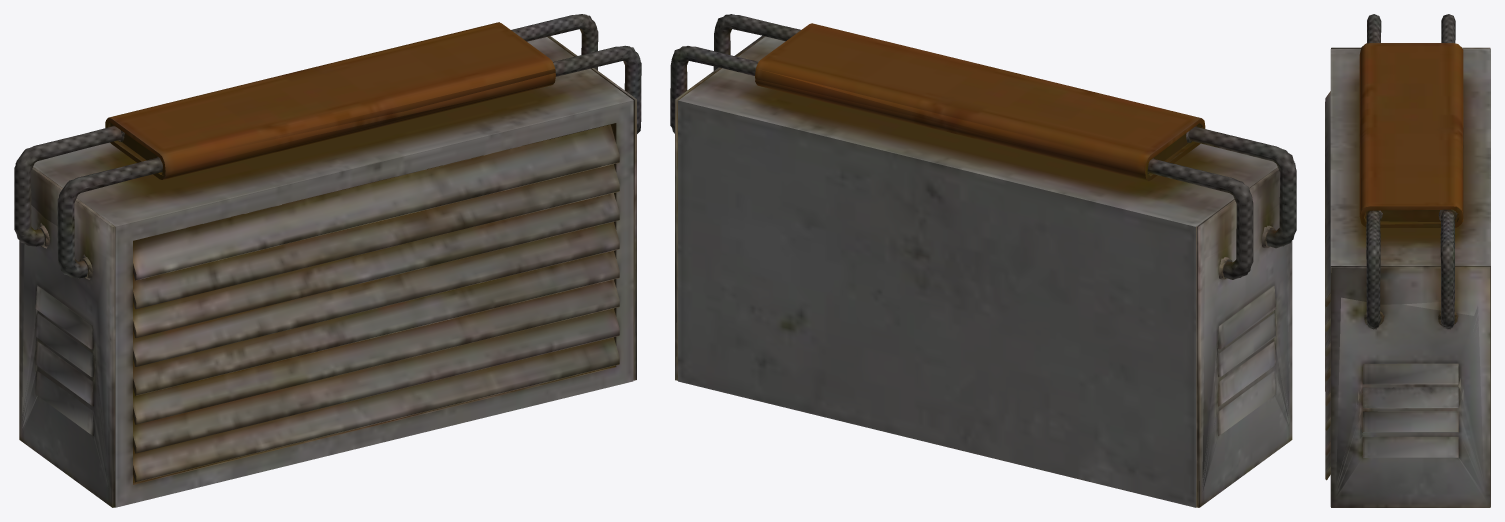
3 renders of one model, left to right at view 1: azimuth 30°, elevation 25°; view 2: azimuth 150°, elevation 25°; view 3: azimuth 270°, elevation 25°, orthographic. The views are drawn at different scales.
Parts seen in each view (by area): view 1: sm_ac02_00; view 2: sm_ac02_00; view 3: sm_ac02_00.
Boxes of the visible parts, bbox=[...] form: sm_ac02_00: bbox=[14, 14, 641, 507]; sm_ac02_00: bbox=[670, 14, 1296, 507]; sm_ac02_00: bbox=[1325, 14, 1490, 507].
Bounding box in the file's own units: 1.35 × 0.7094 × 0.3874.
1 material, 1 textured.
